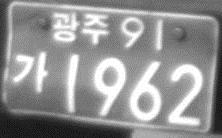1: (65, 51, 81, 117), (152, 17, 166, 52)
2: (166, 60, 203, 126)
6: (128, 58, 162, 123)
9: (92, 56, 127, 117), (121, 15, 144, 48)
가: (11, 48, 50, 93)
광주_O: (51, 10, 109, 47)
